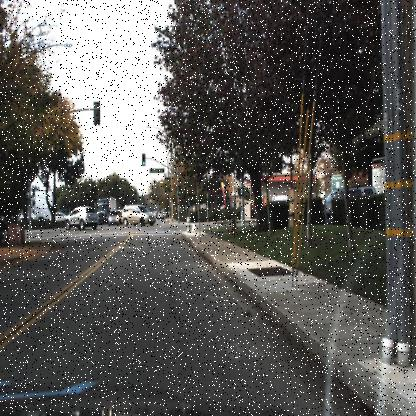car: (318, 182, 381, 219), (324, 184, 376, 224), (61, 204, 99, 235), (120, 203, 157, 228), (106, 206, 122, 231)
trafficLight-Green: (141, 152, 147, 167), (177, 183, 182, 198)
truck: (94, 195, 116, 227)
